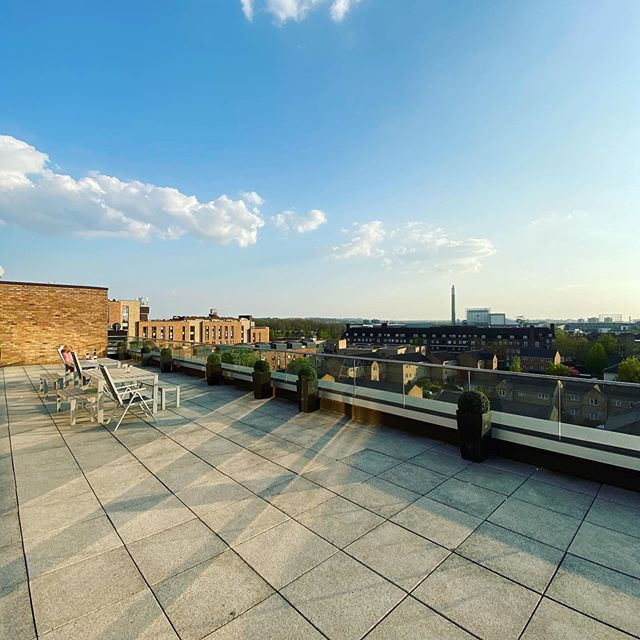building: (340, 319, 560, 363), (1, 287, 116, 367), (135, 316, 273, 349)
chair: (102, 364, 161, 429)
sky: (1, 1, 640, 282)
